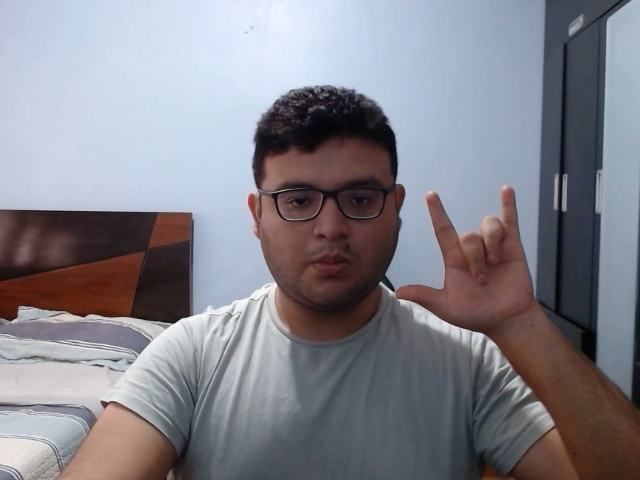I love you: (392, 179, 553, 347)
